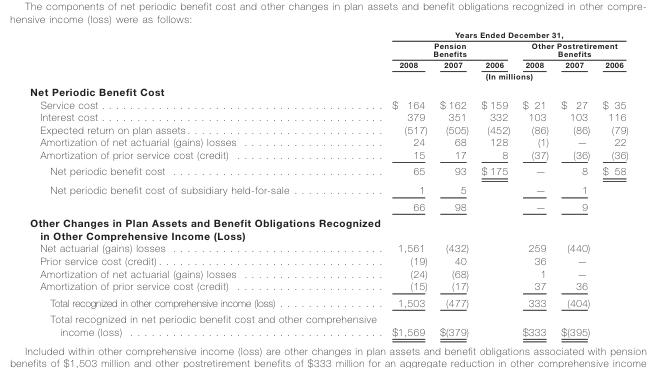table: (29, 29, 627, 337)
table column: (29, 29, 383, 337), (383, 29, 432, 337), (432, 29, 474, 337), (474, 29, 515, 337), (554, 29, 595, 337), (515, 29, 554, 337), (595, 29, 627, 337)
table column header: (29, 29, 627, 82)
table projected row header: (29, 214, 627, 241), (29, 82, 627, 97)
table row: (29, 214, 627, 241), (29, 310, 627, 337), (29, 39, 627, 58), (29, 162, 627, 180), (29, 180, 627, 198), (29, 198, 627, 214), (29, 294, 627, 310), (29, 82, 627, 97), (29, 279, 627, 294), (29, 148, 627, 162), (29, 69, 627, 82), (29, 97, 627, 110), (29, 122, 627, 135), (29, 135, 627, 148), (29, 241, 627, 254), (29, 266, 627, 279), (29, 110, 627, 122), (29, 254, 627, 266), (29, 58, 627, 69), (29, 29, 627, 39)
table spanning cell: (383, 69, 627, 82), (383, 39, 515, 58), (383, 29, 627, 39), (515, 39, 627, 58)
